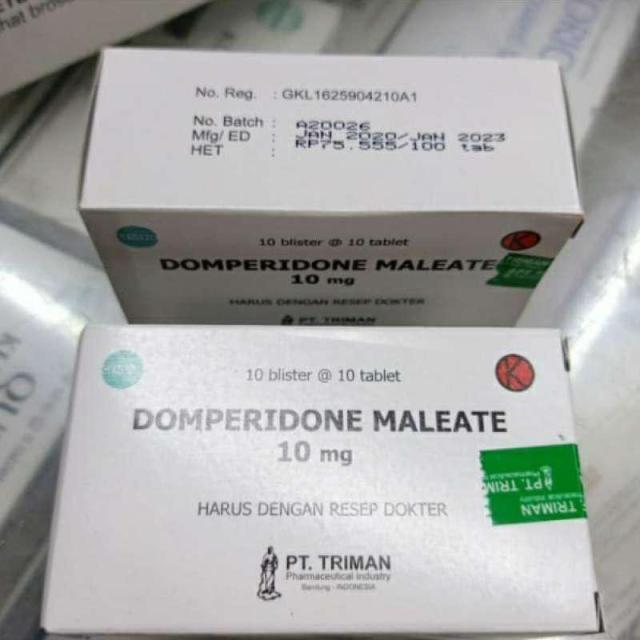drug-name: (126, 398, 514, 434)
